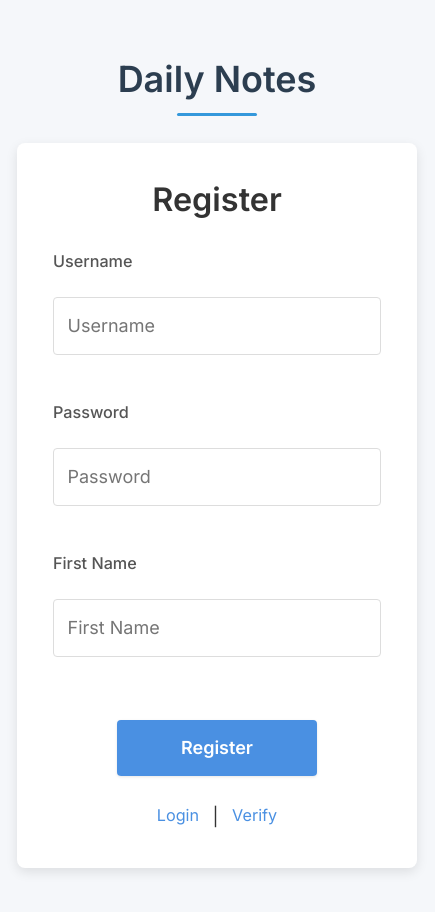
Scenario: CognitoRegister › shows registration successful message on success
In the field with placeholder "Username": [217, 326] box 53,297 -> 381,355, type "user1"
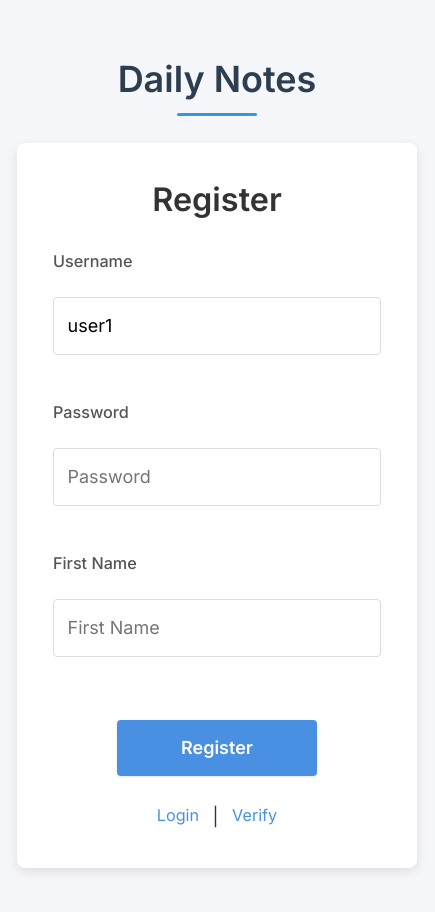
In the password field with placeholder "Password": [217, 477] box 53,448 -> 381,506, type "pass1"
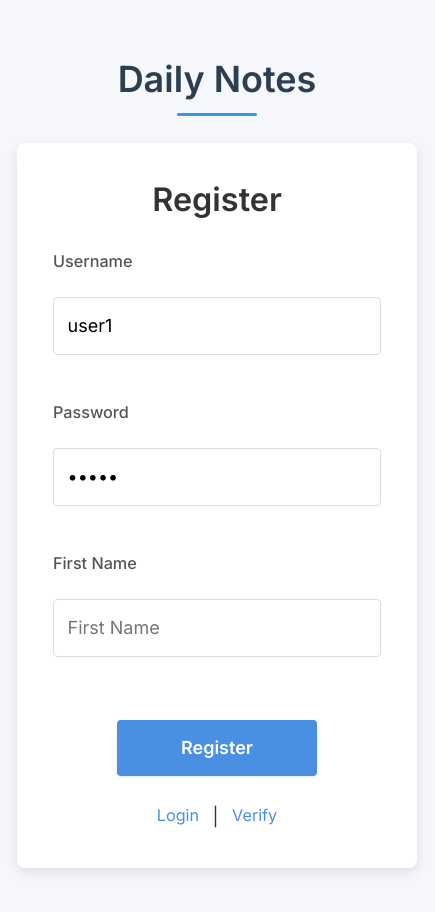
In the field with placeholder "First Name": [217, 628] box 53,599 -> 381,657, type "John"
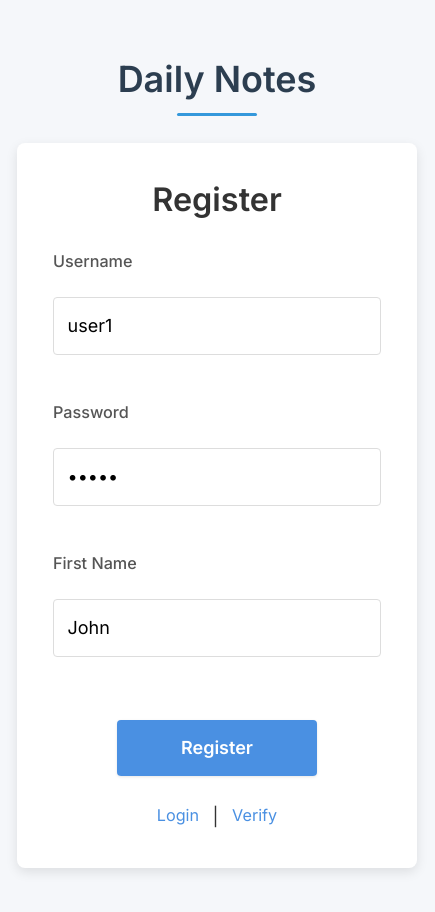
Click the button "Register": [217, 748] box 117,720 -> 317,776
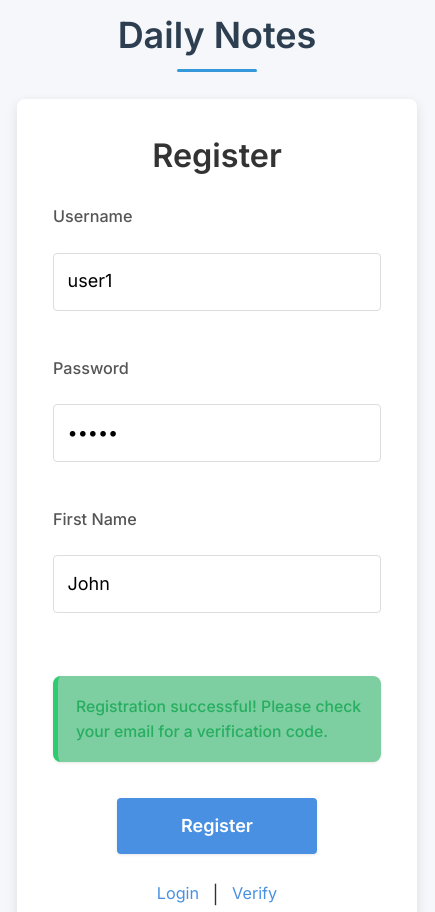
Check: the text "Registration successful" is shown, box 76,697 -> 361,741
